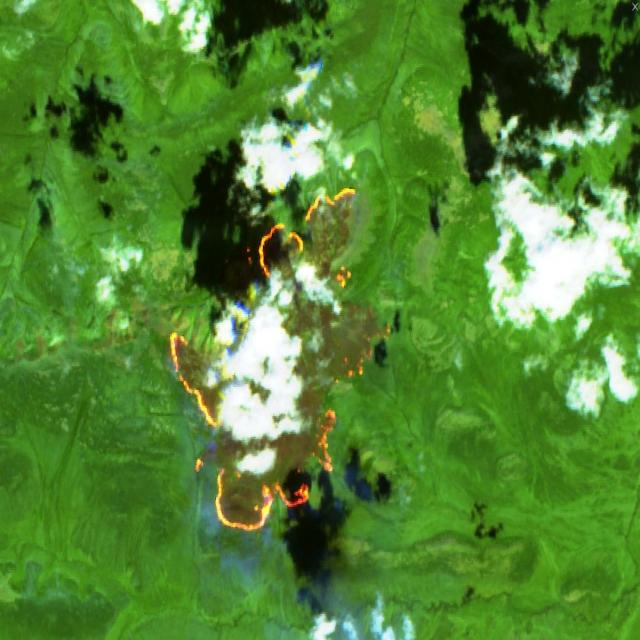fire: (163, 177, 398, 536)
